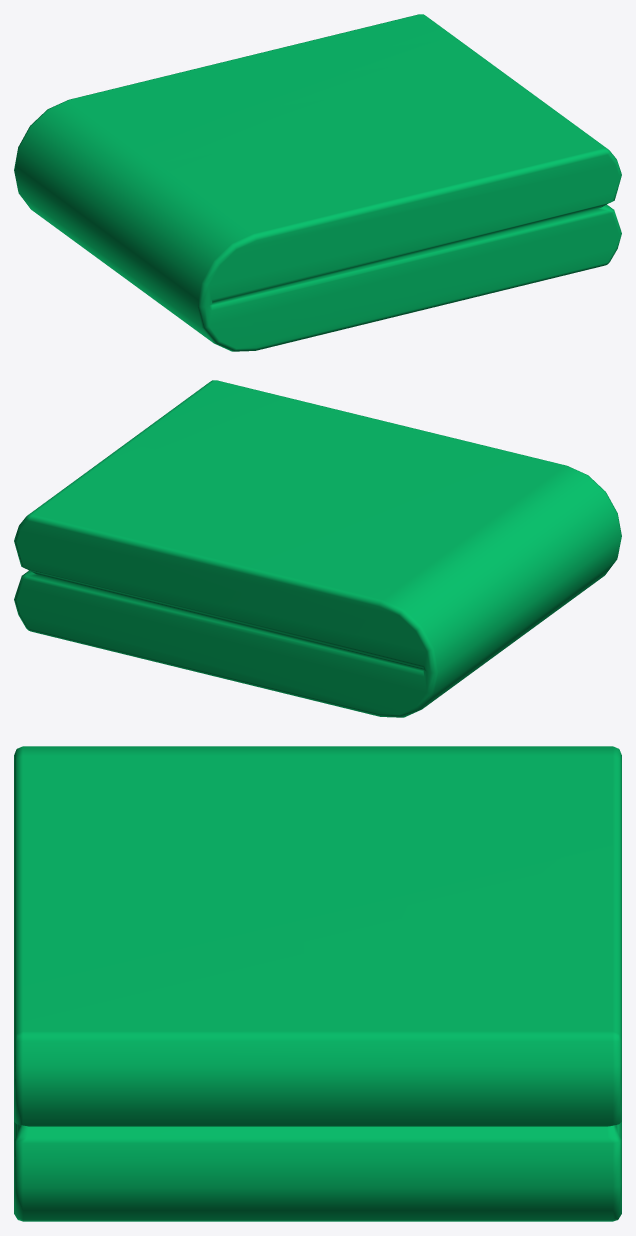
File: Public_19_Fabric_5.glb
3 views of the same model, one above another, from view 1: azimuth 30°, elevation 25°; view 2: azimuth 150°, elevation 25°; view 3: azimuth 270°, elevation 25° (orthographic). The views are drawn at different scales.
Visible parts, largest first — view 1: Public_19_Fabric_5; view 2: Public_19_Fabric_5; view 3: Public_19_Fabric_5.
Part boxes in pixels (x1=…): Public_19_Fabric_5: x1=14, y1=14, x2=621, y2=351; Public_19_Fabric_5: x1=14, y1=380, x2=621, y2=717; Public_19_Fabric_5: x1=14, y1=746, x2=621, y2=1221.
Bounding box in the file's own units: 0.9385 × 0.2481 × 0.7228.
Materials: 1 (1 with a texture image).
